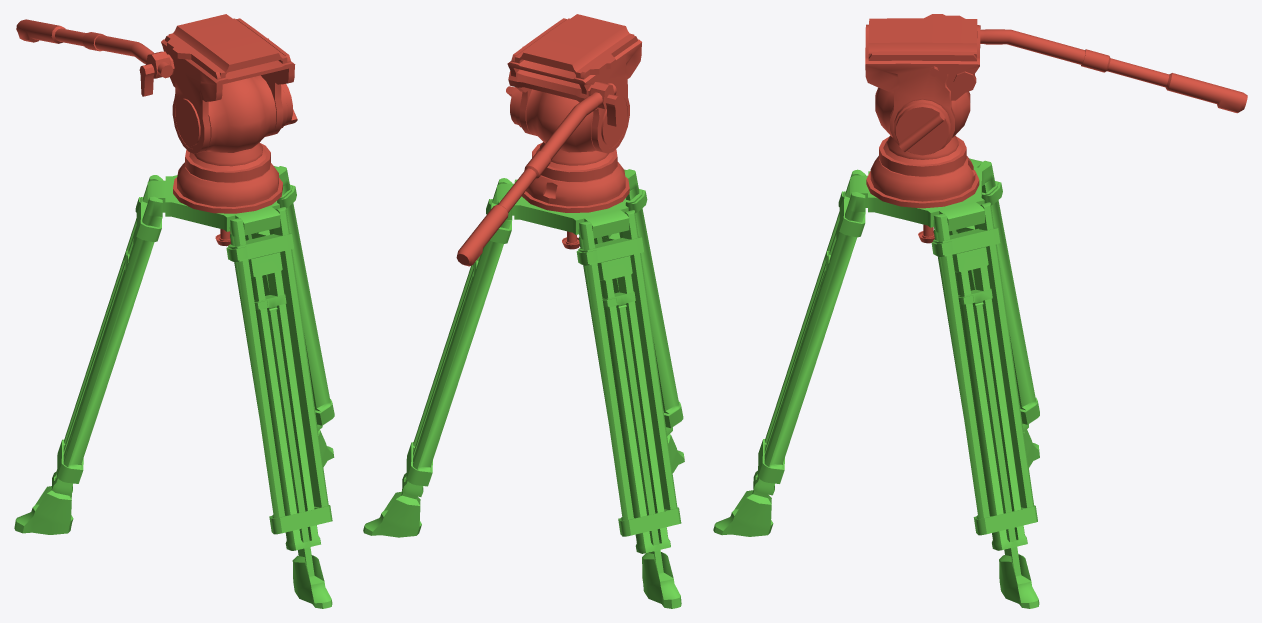
The model's file is Modern High End Tripod Lowest.fbx.
The picture shows the model from 3 angles, left to right: view 1: azimuth 30°, elevation 25°; view 2: azimuth 150°, elevation 25°; view 3: azimuth 270°, elevation 25°; orthographic projection.
Visible parts, largest first — view 1: Cylinder.002; view 2: Cylinder.002; view 3: Cylinder.002.
Part boxes in pixels (x1=…): Cylinder.002: x1=14, y1=14, x2=334, y2=608; Cylinder.002: x1=363, y1=14, x2=684, y2=608; Cylinder.002: x1=713, y1=14, x2=1247, y2=608.
Bounding box in the file's own units: 73.38 × 109 × 105.
